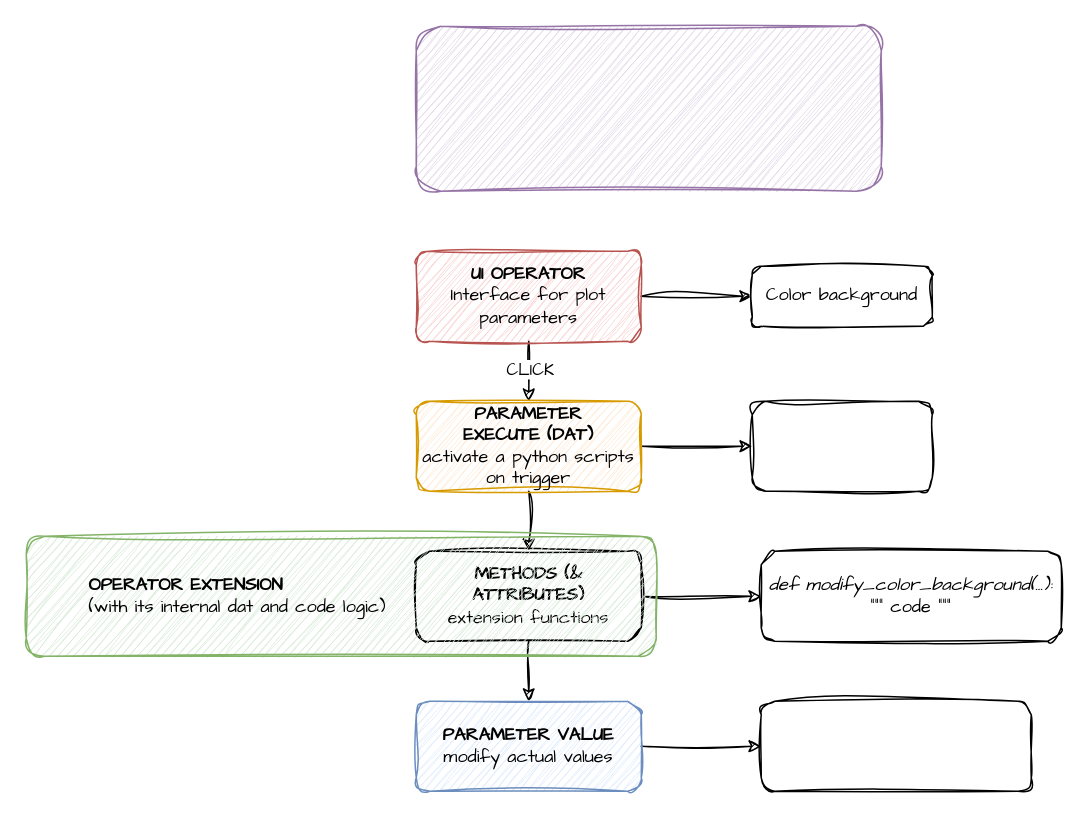
The diagram is 1088 pixels wide and 818 high, and some of its shapes have lost their labels. Here are the shapes that lost their labels. From the top down, the centre of each, then its label:
At [648,108]: "TOUCHDESIGNER EXTENSION WORKFLOW".
At [841,445]: "- Backgroundr = 1 - Backgroundg = 1 - Backgroundb = 1".
At [895,745]: "- Backgroundr = 0 - Backgroundg = 0 - Backgroundb = 0".
